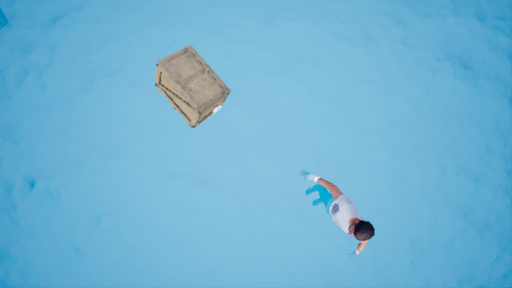person: (299, 172, 379, 258)
